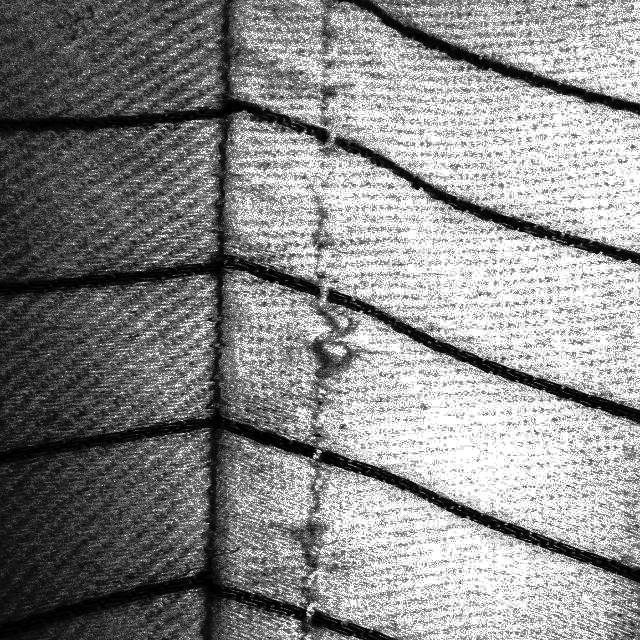Sewing_error: (288, 224, 357, 488)
